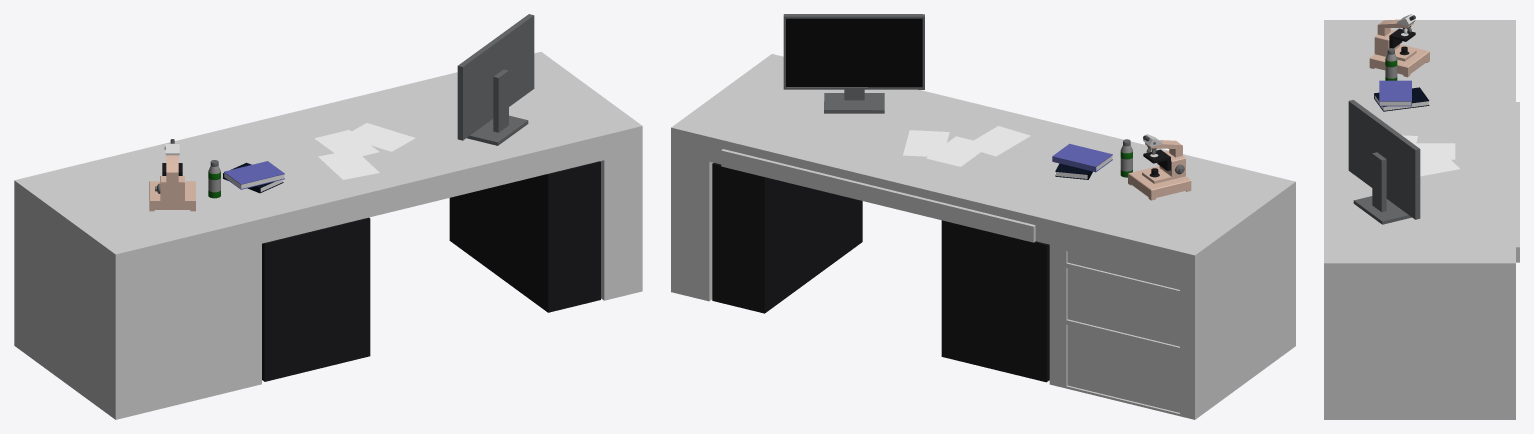
Rendered from Lab_Desk.fbx.
3 views of the same model, side by side, from view 1: azimuth 30°, elevation 25°; view 2: azimuth 150°, elevation 25°; view 3: azimuth 270°, elevation 25° (orthographic). The views are drawn at different scales.
Parts seen in each view (by area): view 1: Box194, Box196, Box195, Box197, Box200, Book078, Plane008, Plane009, Box198, Box199, Plane007; view 2: Box194, Box196, Box195, Box197, Box200, Box199, Book078, Plane007, Plane008, Plane009; view 3: Box194, Box197, Box200, Book078, Box198, Box199, Plane007, Plane008, Book077, Cylinder199, Box214.
Part boxes in pixels (box(x1,y1,x2,y2)): Box194: box(14, 52, 642, 419); Box196: box(449, 161, 600, 312); Box195: box(262, 217, 370, 381); Box197: box(457, 14, 534, 140); Box200: box(149, 155, 195, 211); Book078: box(224, 161, 284, 189); Plane008: box(345, 123, 415, 151); Plane009: box(318, 149, 379, 179); Box198: box(493, 69, 508, 132); Box199: box(466, 115, 528, 145); Plane007: box(314, 130, 378, 160); Box194: box(671, 54, 1295, 419); Box196: box(712, 163, 862, 313); Box195: box(941, 220, 1049, 382); Box197: box(783, 14, 924, 89); Box200: box(1128, 140, 1191, 200); Box199: box(824, 93, 884, 113); Book078: box(1052, 143, 1112, 172); Plane007: box(926, 136, 990, 166); Plane008: box(903, 130, 949, 156); Plane009: box(968, 126, 1030, 156); Box194: box(1324, 20, 1519, 419); Box197: box(1348, 100, 1420, 219); Box200: box(1369, 19, 1429, 77); Book078: box(1379, 80, 1411, 106); Box198: box(1372, 152, 1386, 212); Box199: box(1353, 196, 1411, 224); Plane007: box(1416, 143, 1455, 159); Plane008: box(1420, 154, 1459, 176); Book077: box(1374, 87, 1429, 111); Cylinder199: box(1385, 48, 1397, 80); Box214: box(1389, 28, 1415, 48).
Bounding box in the file's own units: 300 × 139 × 102.
12 materials, 1 textured.
